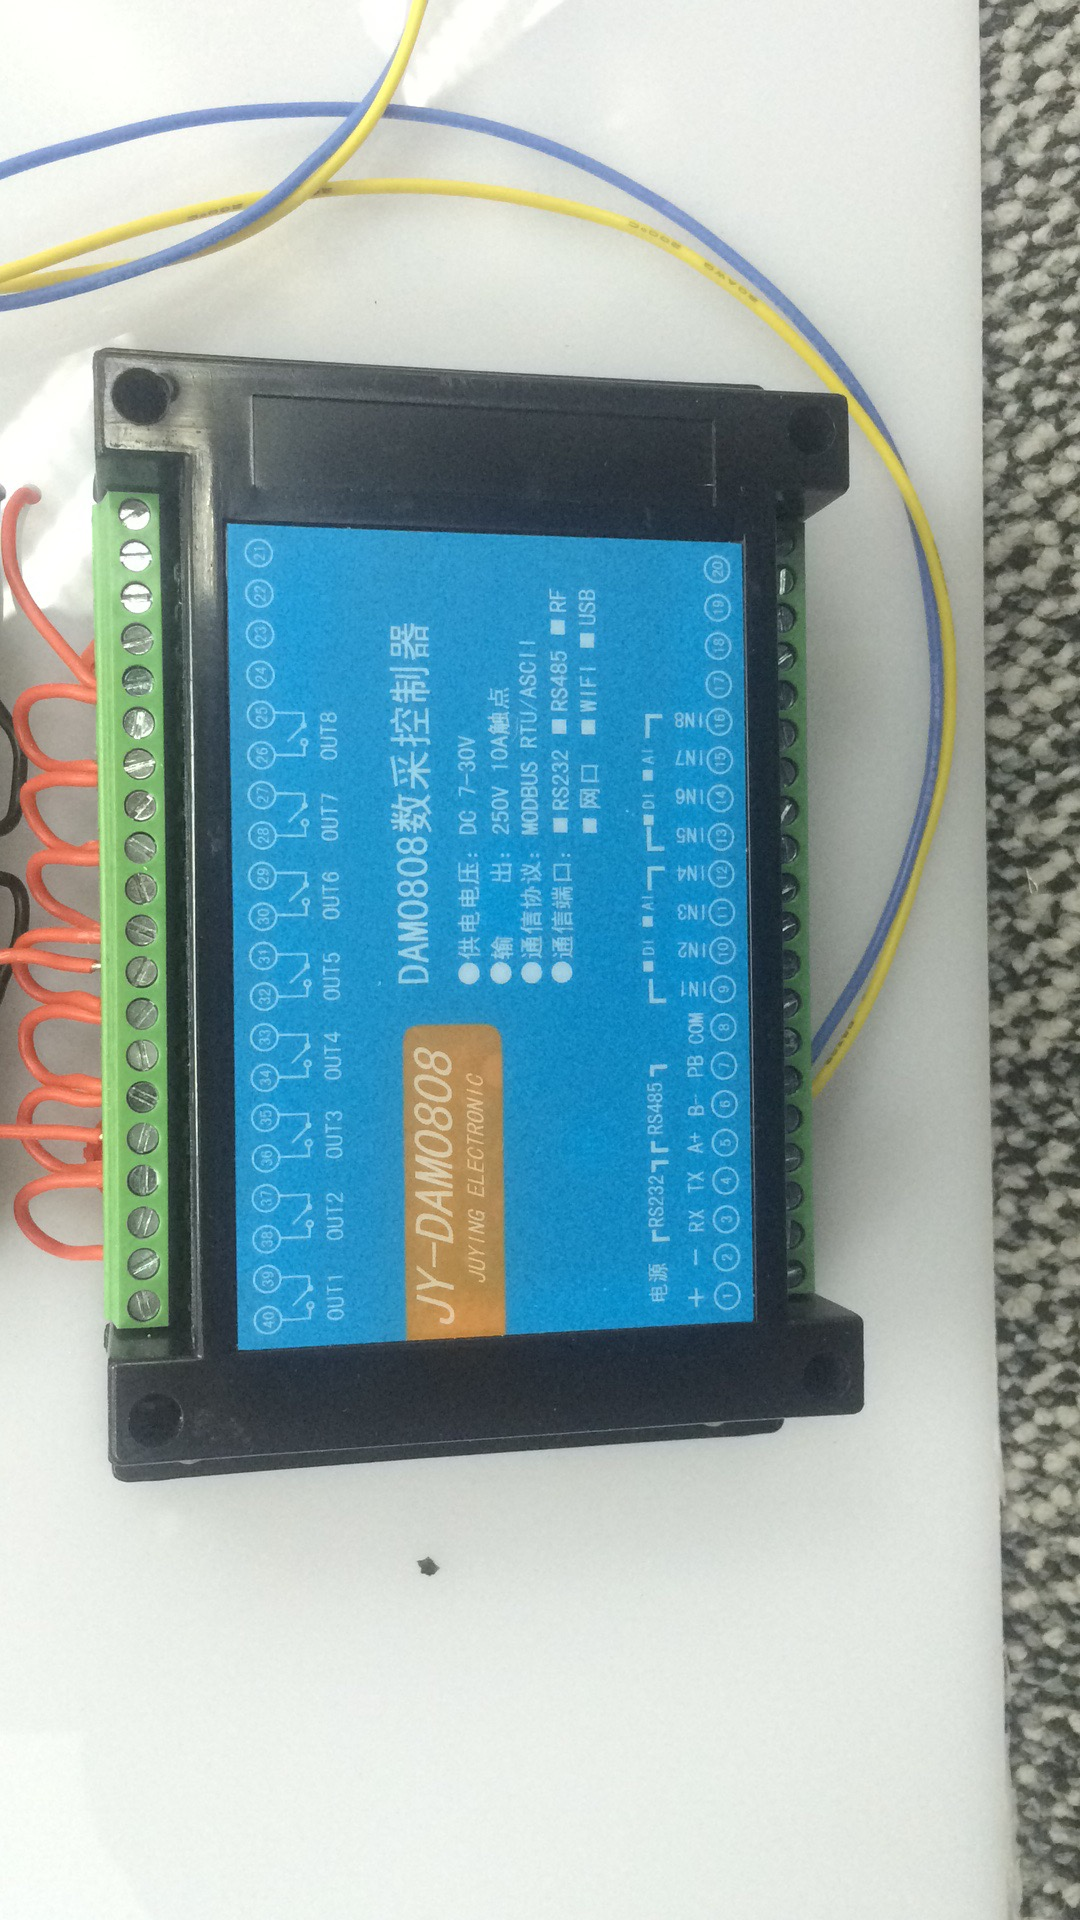relay: (69, 324, 911, 1502)
